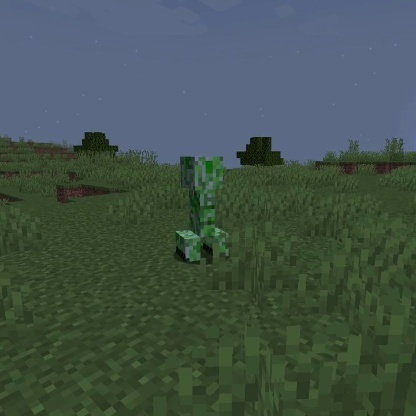creeper: (173, 154, 232, 267)
